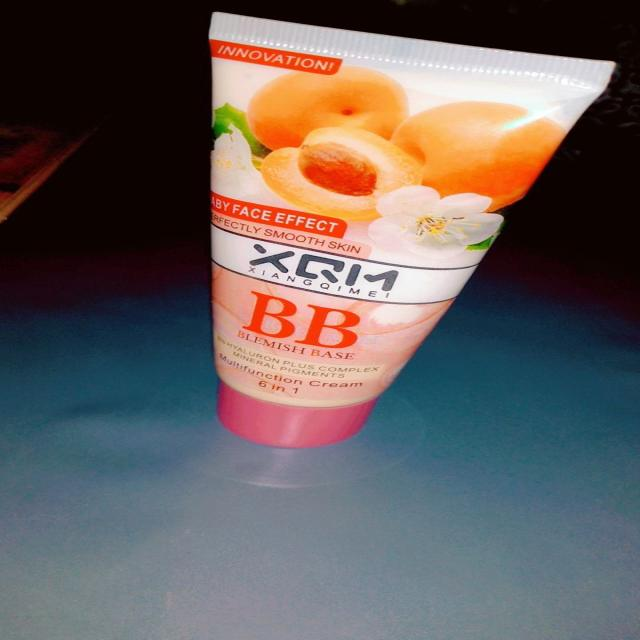bb cream: (186, 4, 636, 472)
